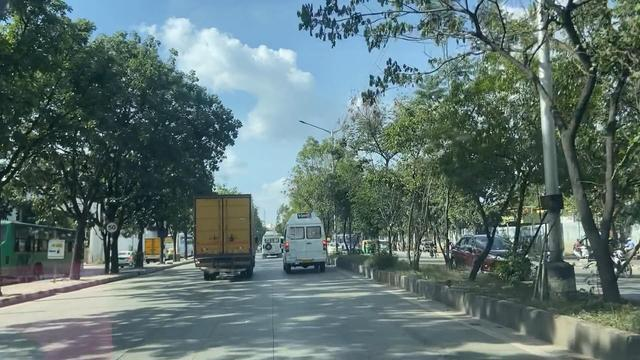HMV: (194, 199, 254, 277), (287, 209, 327, 270)
